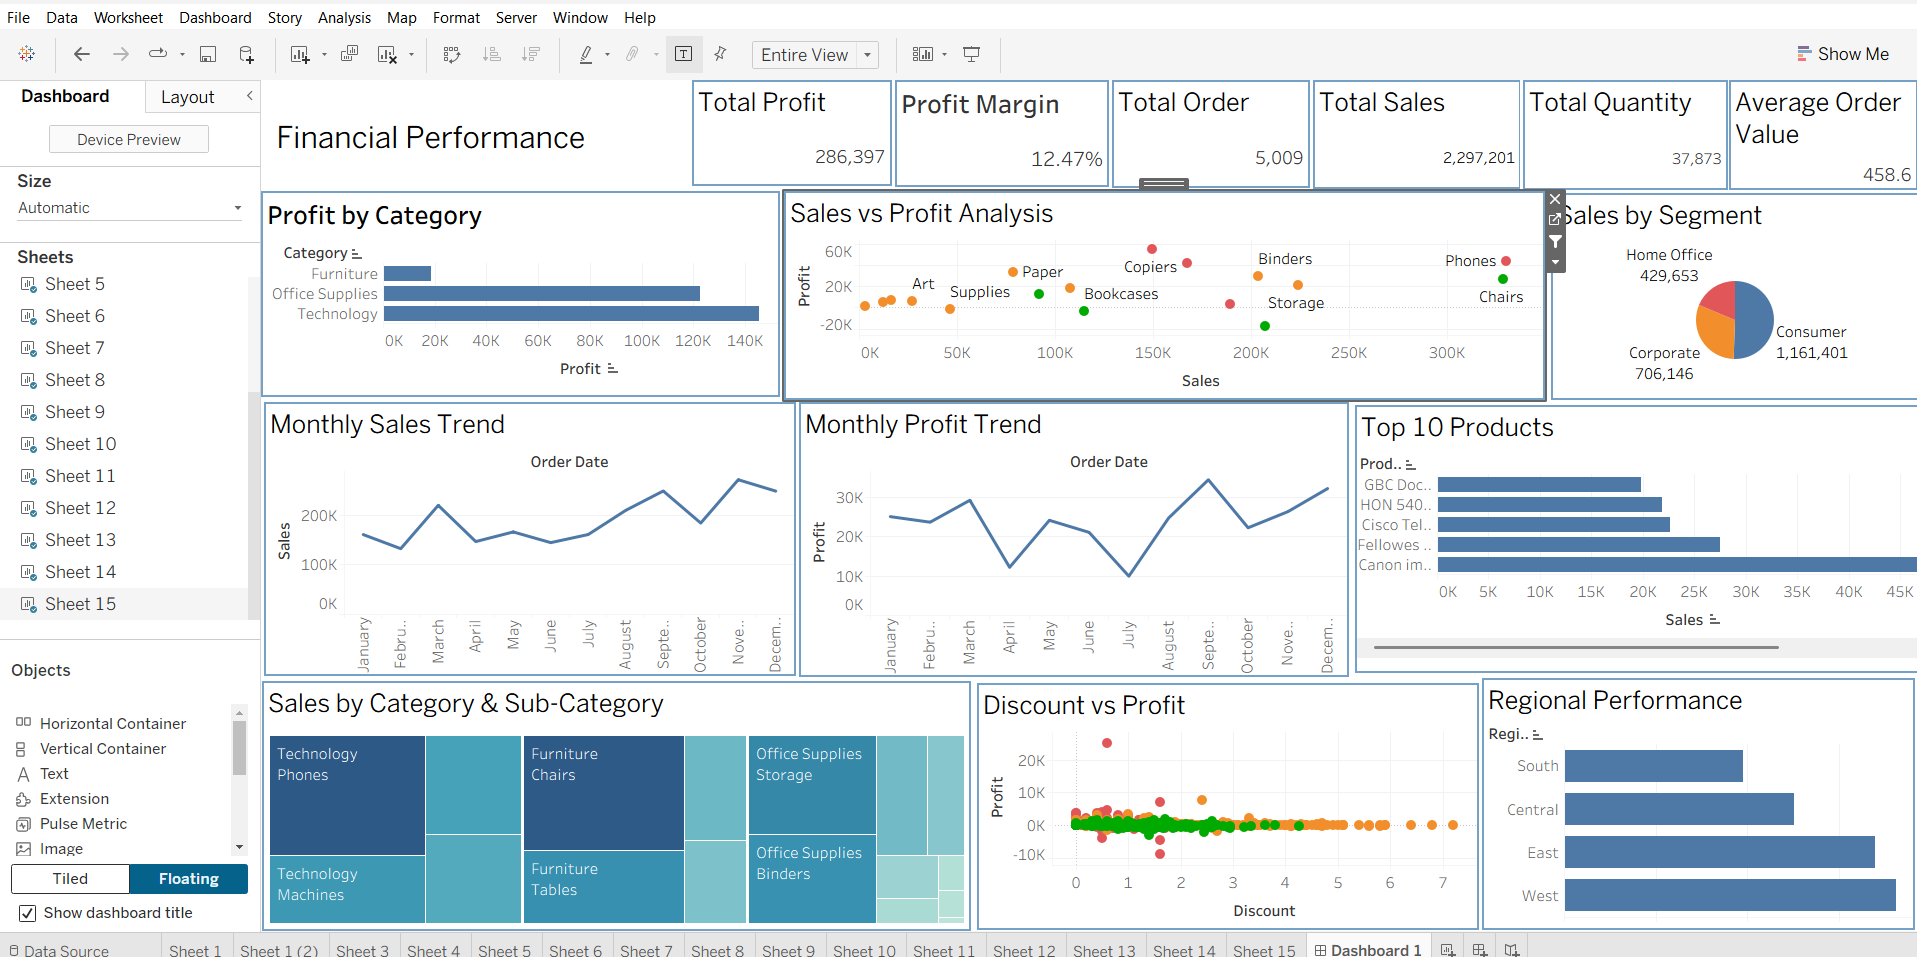

The dashboard page shown, as its layout file describes it:
{"tool":"tableau","page":{"name":"Dashboard 1","canvas":[1000,1000],"units":"permille","ordinal":0},"visuals":[{"type":"worksheet","title":"Sheet 8","mark":"Automatic","box":[260.4,0,120.5,124.6]},{"type":"worksheet","title":"Sheet 9","mark":"Automatic","box":[382.8,0,129,125.7]},{"type":"worksheet","title":"Sheet 10","mark":"Automatic","box":[513.6,0,119.4,126.9]},{"type":"worksheet","title":"Sheet 7","mark":"Automatic","box":[634.7,0,125.4,128.1]},{"type":"worksheet","title":"Sheet 11","mark":"Automatic","box":[761.9,0,123.6,129.3]},{"type":"worksheet","title":"Sheet 12","mark":"Automatic","box":[886.1,0,113.9,129.3]},{"type":"title","box":[4.8,9.4,990.3,113.9]},{"type":"worksheet","title":"Sheet 4","mark":"Automatic","rows":["Category"],"cols":["Profit"],"box":[0,130.4,313.4,242.1]},{"type":"worksheet","title":"Sheet 15","mark":"Circle","rows":["Profit"],"cols":["Sales"],"box":[315.9,130.4,459.3,245.6]},{"type":"worksheet","title":"Sheet 13","mark":"Pie","box":[778.5,132.8,222.1,243.2]},{"type":"worksheet","title":"Sheet 1","mark":"Automatic","rows":["Sales"],"cols":["Order Date"],"box":[1.8,378.4,321.3,322]},{"type":"worksheet","title":"Sheet 1 (2)","mark":"Automatic","rows":["Profit"],"cols":["Order Date"],"box":[324.9,378.4,332.1,323.2]},{"type":"worksheet","title":"Sheet 3","mark":"Automatic","rows":["Region"],"cols":["Sales"],"box":[736.9,702.7,261.3,296.1]},{"type":"worksheet","title":"Sheet 14","mark":"Automatic","box":[0.6,706.2,428,293.8]},{"type":"worksheet","title":"Sheet 6","mark":"Circle","rows":["Profit"],"cols":["Discount"],"box":[432.2,708.6,303.2,290.2]}]}

Visuals, with their boxes on the dashboard's canvas, which has no fixed pixel size, in thousandths of its width and height (x1, y1, x2, y2). These are canvas units, not pixel positions in the 1917x957 screenshot, which may show the page scaled, cropped or inside an application window:
"Sheet 8" worksheet: bbox(260, 0, 381, 125)
"Sheet 9" worksheet: bbox(383, 0, 512, 126)
"Sheet 10" worksheet: bbox(514, 0, 633, 127)
"Sheet 7" worksheet: bbox(635, 0, 760, 128)
"Sheet 11" worksheet: bbox(762, 0, 886, 129)
"Sheet 12" worksheet: bbox(886, 0, 1000, 129)
title: bbox(5, 9, 995, 123)
"Sheet 4" worksheet: bbox(0, 130, 313, 372)
"Sheet 15" worksheet (Circle marks): bbox(316, 130, 775, 376)
"Sheet 13" worksheet (Pie marks): bbox(778, 133, 1001, 376)
"Sheet 1" worksheet: bbox(2, 378, 323, 700)
"Sheet 1 (2)" worksheet: bbox(325, 378, 657, 702)
"Sheet 3" worksheet: bbox(737, 703, 998, 999)
"Sheet 14" worksheet: bbox(1, 706, 429, 1000)
"Sheet 6" worksheet (Circle marks): bbox(432, 709, 735, 999)
